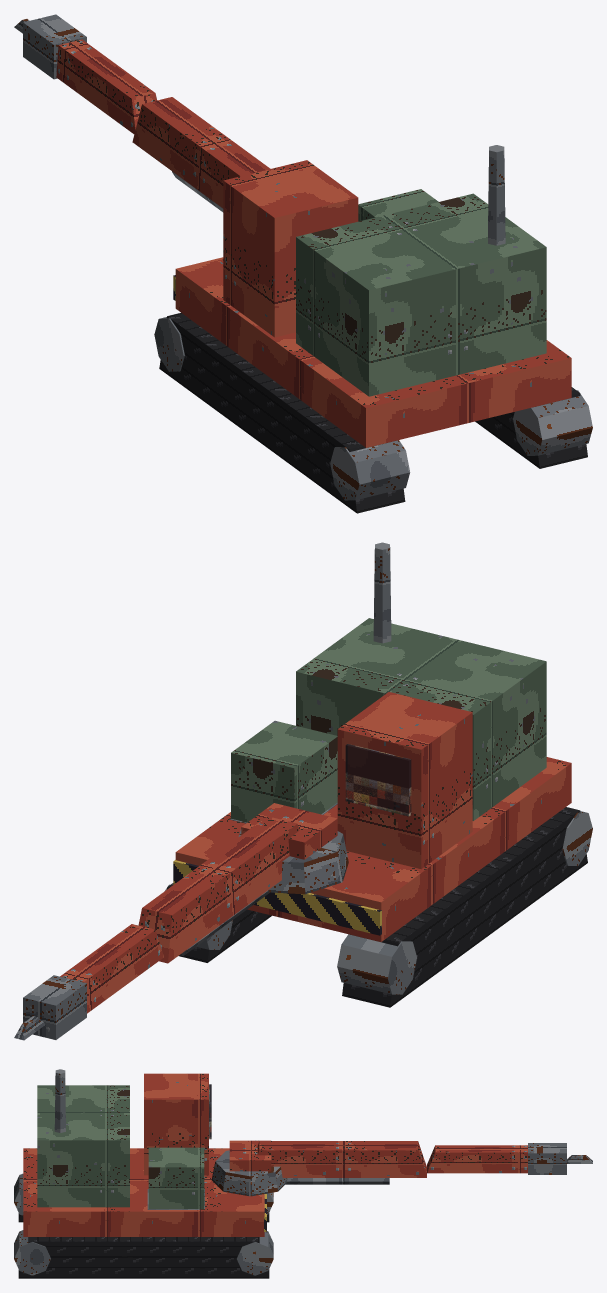
File: machinery__rock_breaker.glb
3 renders of one model, top to bottom at view 1: azimuth 30°, elevation 25°; view 2: azimuth 150°, elevation 25°; view 3: azimuth 270°, elevation 25°, orthographic. The views are drawn at different scales.
Visible parts, largest first — view 1: _MeshInstance3D_104, _MeshInstance3D_105, _MeshInstance3D_102, _MeshInstance3D_103, _MeshInstance3D_113, _MeshInstance3D_116, _MeshInstance3D_117; view 2: _MeshInstance3D_105, _MeshInstance3D_104, _MeshInstance3D_102, _MeshInstance3D_113, _MeshInstance3D_103, _MeshInstance3D_116, _MeshInstance3D_107, _MeshInstance3D_106, _MeshInstance3D_117, _MeshInstance3D_110, _MeshInstance3D_111; view 3: _MeshInstance3D_105, _MeshInstance3D_104, _MeshInstance3D_102, _MeshInstance3D_113, _MeshInstance3D_103, _MeshInstance3D_116, _MeshInstance3D_110, _MeshInstance3D_117, _MeshInstance3D_111, _MeshInstance3D_114.
Part boxes in pixels (x1,y1,x2,y2): _MeshInstance3D_104: [296, 189, 546, 396]; _MeshInstance3D_105: [175, 160, 571, 447]; _MeshInstance3D_102: [159, 313, 587, 513]; _MeshInstance3D_103: [154, 145, 592, 500]; _MeshInstance3D_113: [132, 97, 270, 208]; _MeshInstance3D_116: [56, 39, 157, 133]; _MeshInstance3D_117: [23, 14, 86, 79]; _MeshInstance3D_105: [175, 692, 571, 941]; _MeshInstance3D_104: [231, 618, 546, 822]; _MeshInstance3D_102: [167, 807, 587, 1007]; _MeshInstance3D_113: [138, 816, 299, 963]; _MeshInstance3D_103: [164, 542, 592, 994]; _MeshInstance3D_116: [60, 924, 163, 1013]; _MeshInstance3D_107: [345, 744, 411, 816]; _MeshInstance3D_106: [173, 860, 381, 935]; _MeshInstance3D_117: [23, 975, 86, 1039]; _MeshInstance3D_110: [238, 828, 348, 894]; _MeshInstance3D_111: [241, 803, 337, 859]; _MeshInstance3D_105: [23, 1073, 264, 1236]; _MeshInstance3D_104: [37, 1085, 204, 1208]; _MeshInstance3D_102: [18, 1213, 269, 1278]; _MeshInstance3D_113: [257, 1141, 426, 1177]; _MeshInstance3D_103: [14, 1069, 273, 1275]; _MeshInstance3D_116: [427, 1145, 527, 1173]; _MeshInstance3D_110: [211, 1150, 287, 1196]; _MeshInstance3D_117: [528, 1143, 566, 1174]; _MeshInstance3D_111: [229, 1140, 271, 1171]; _MeshInstance3D_114: [285, 1178, 389, 1184].
Bounding box in the file's own units: 1.84 × 2.25 × 6.24.
6 materials, 6 textured.
